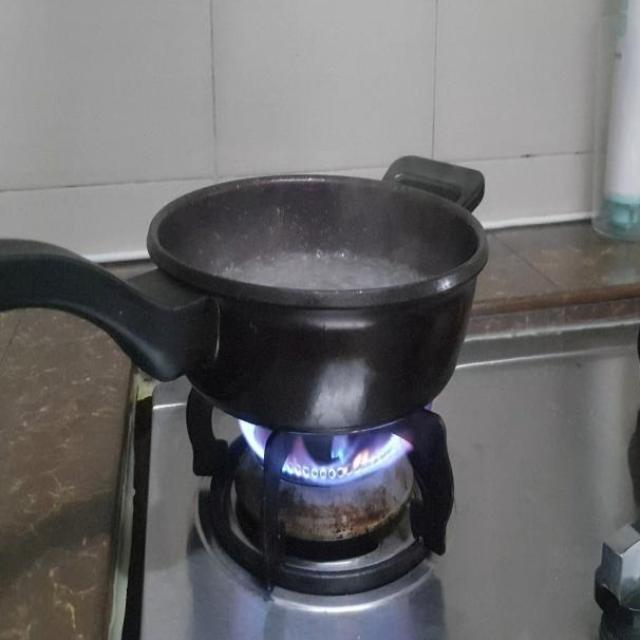smoke: (237, 406, 420, 492)
